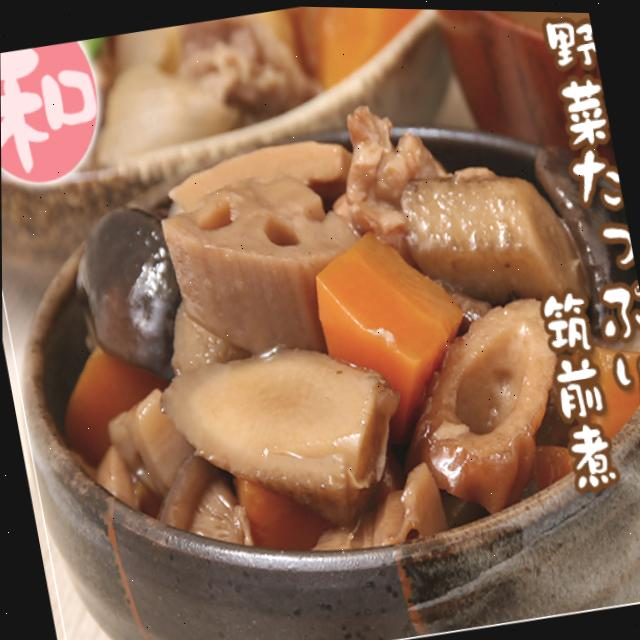鸡肉料理 含炸鸡: (1, 125, 572, 632)
